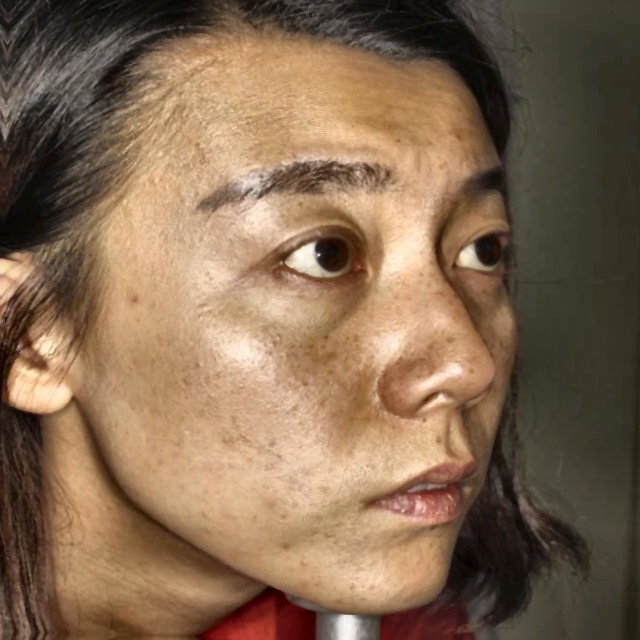comedone: (447, 133, 465, 147)
